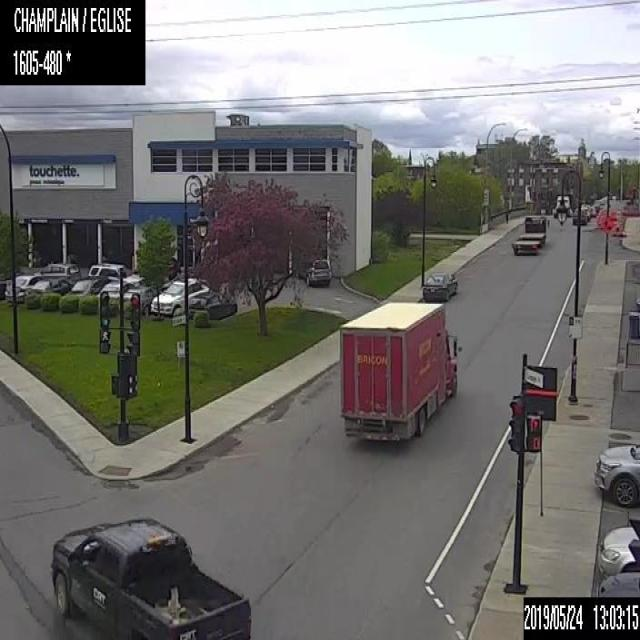construction: (601, 216, 613, 233), (616, 220, 620, 236), (612, 220, 616, 236), (596, 212, 600, 225)
vehicle: (50, 514, 252, 638), (338, 298, 458, 438), (594, 442, 639, 505), (151, 277, 209, 316), (596, 525, 639, 577), (511, 211, 549, 253), (188, 290, 237, 319), (87, 262, 145, 286), (422, 270, 457, 302), (123, 285, 157, 316), (4, 273, 43, 300), (598, 571, 639, 596), (294, 258, 330, 286), (25, 277, 73, 298), (33, 261, 81, 280), (68, 274, 108, 295), (0, 268, 24, 300), (96, 280, 134, 297), (552, 192, 573, 218), (572, 208, 586, 225), (579, 203, 590, 219), (589, 206, 596, 216)
